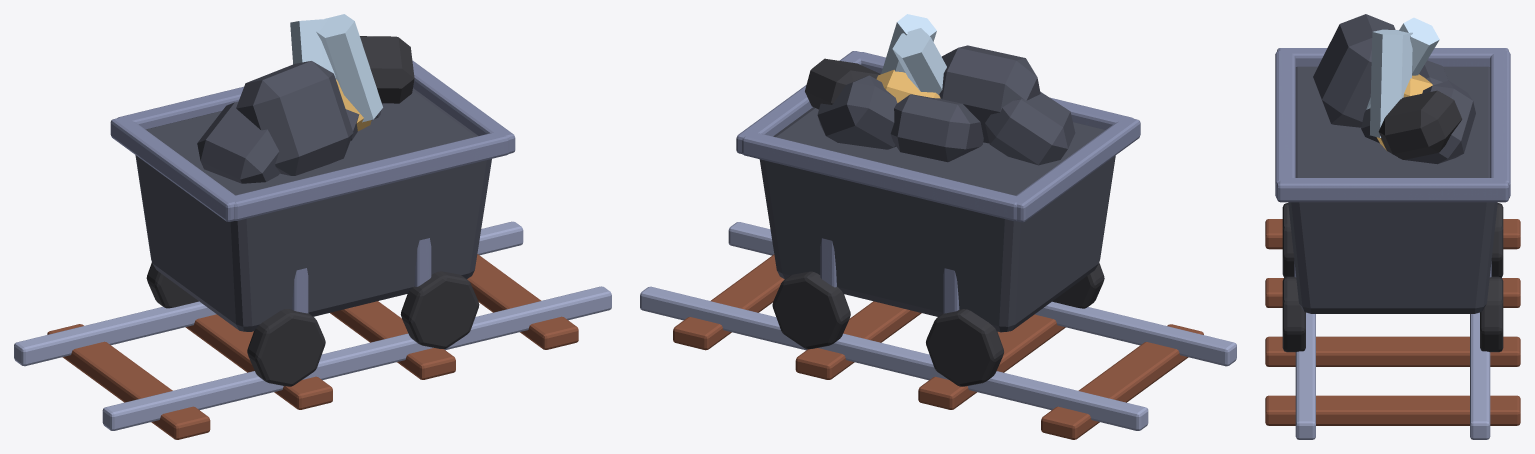
The model's file is minecart.glb.
3 views of the same model, side by side, from view 1: azimuth 30°, elevation 25°; view 2: azimuth 150°, elevation 25°; view 3: azimuth 270°, elevation 25° (orthographic).
Visible parts, largest first — view 1: minecart, glow-minecart; view 2: minecart, glow-minecart; view 3: minecart, glow-minecart.
Boxes of the visible parts, left/top/right/bottom form: minecart: left=14, top=36, right=611, bottom=439; glow-minecart: left=290, top=14, right=382, bottom=122; minecart: left=640, top=45, right=1236, bottom=439; glow-minecart: left=881, top=14, right=946, bottom=94; minecart: left=1265, top=14, right=1520, bottom=439; glow-minecart: left=1366, top=17, right=1439, bottom=137.
Size of the model in its own units: 0.98 by 0.5953 by 0.44.
1 material, 1 textured.
